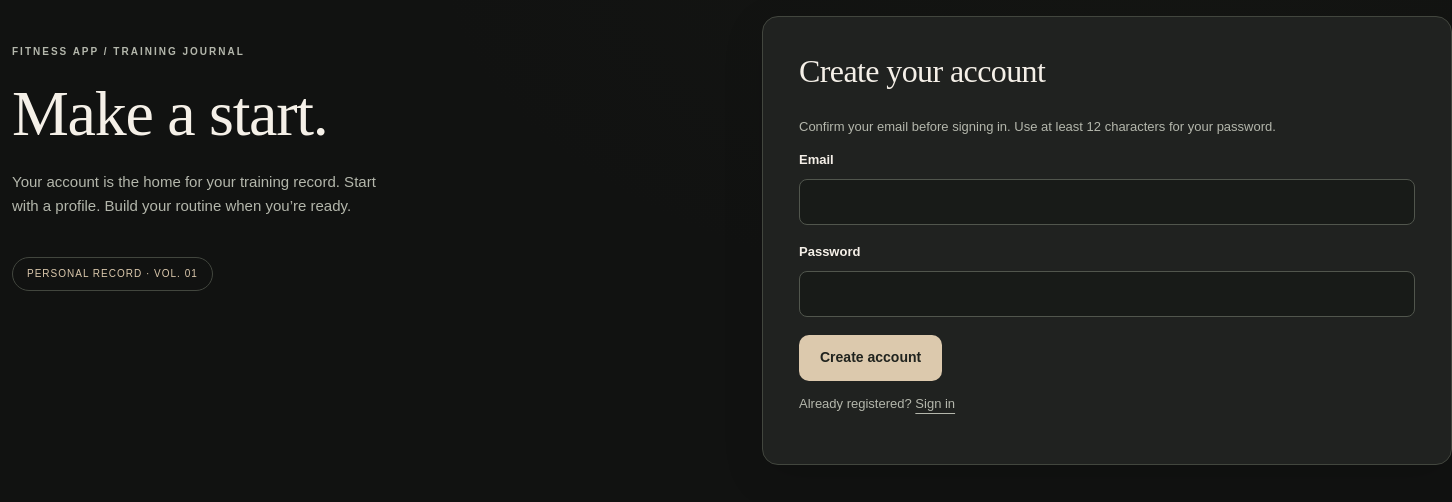
Test case: registration sends the confirmation redirect and asks the user to check email
Type "example@example.test" into the field labelled "Email" at (1107, 202), box [799,179,1415,225]
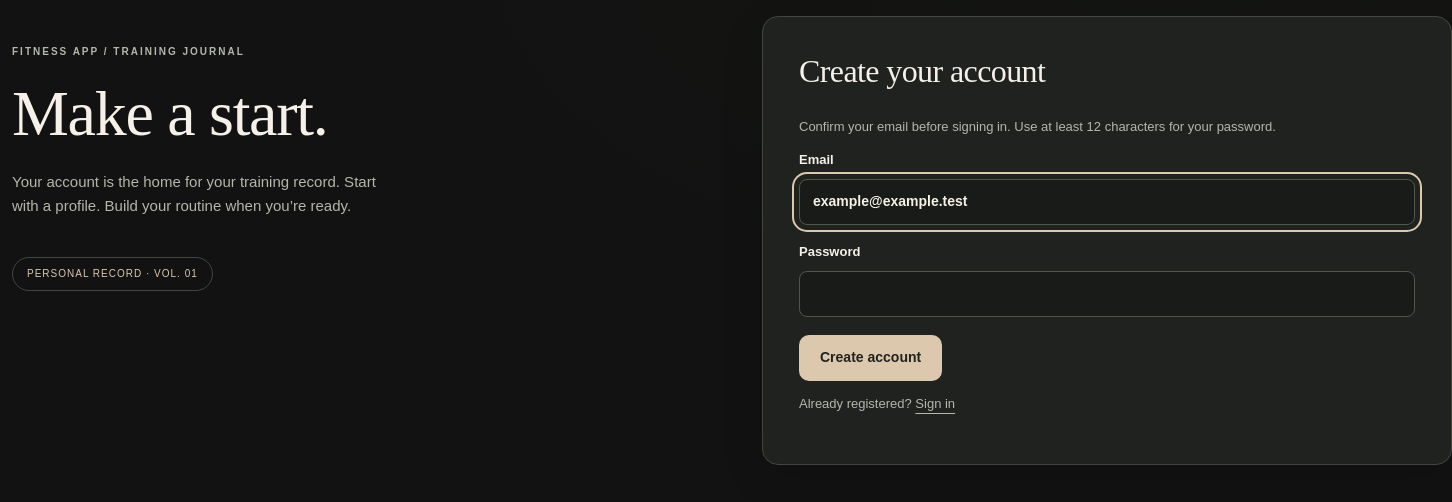
Type "synthetic-test-only-password" into the password field labelled "Password" at (1107, 294), box [799,271,1415,317]
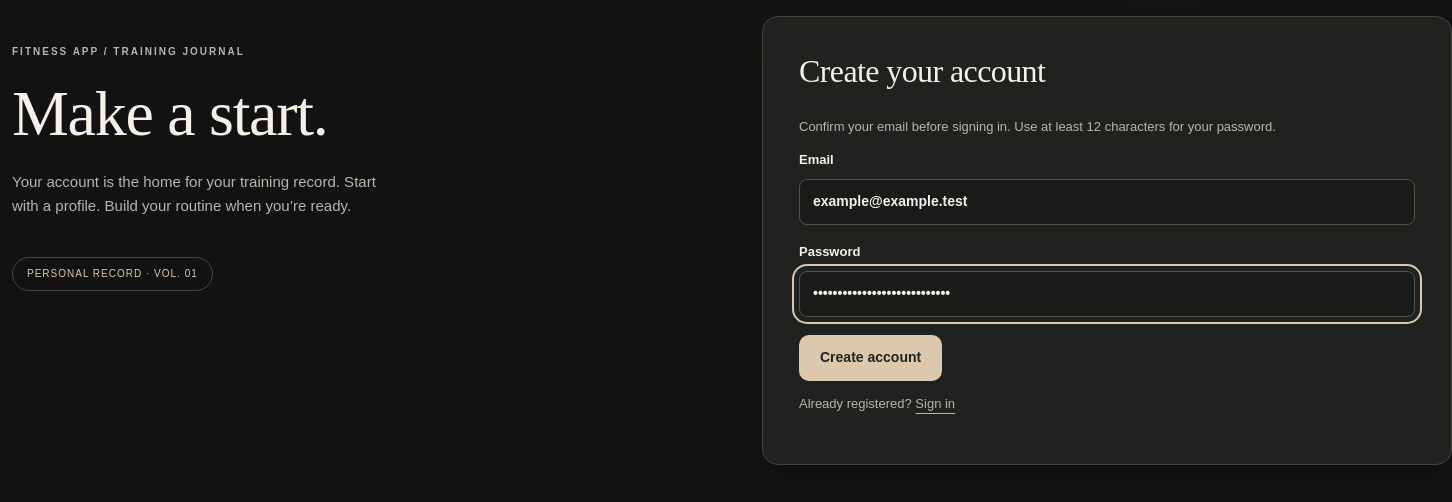
Click the button "Create account" at (871, 358), box [799,335,942,381]
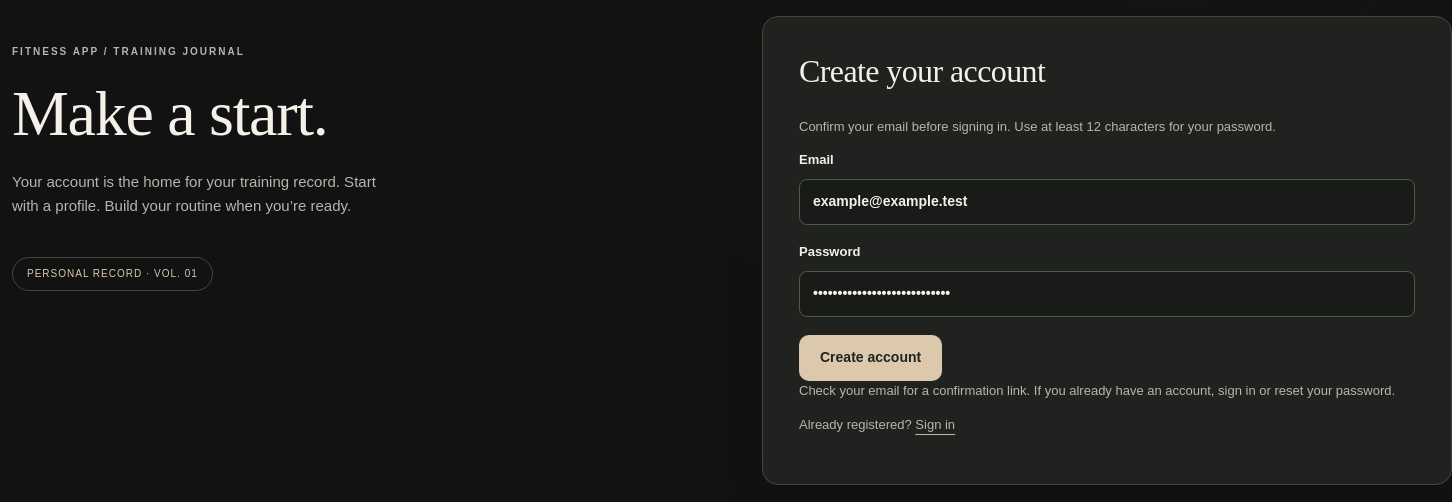
Check: the message shows "Check your email", box [799,383,1395,398]
